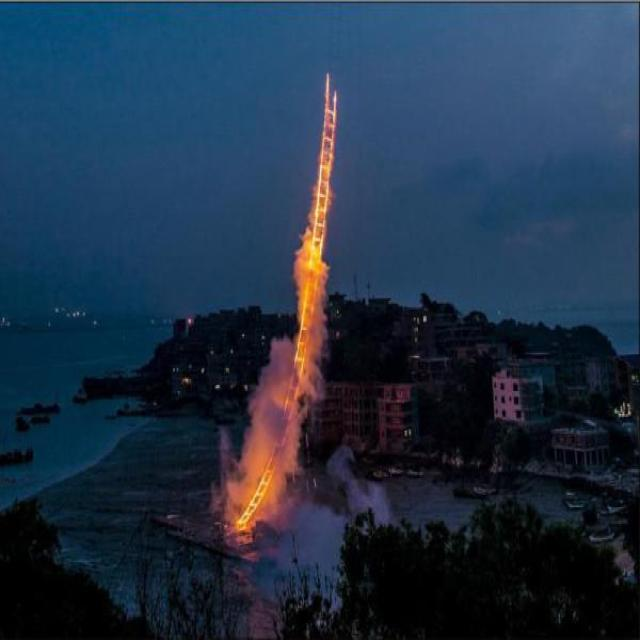Fire: (222, 57, 342, 543)
Smoke: (493, 366, 547, 422), (230, 426, 258, 494), (258, 349, 282, 421), (278, 442, 292, 474), (291, 417, 299, 445)
